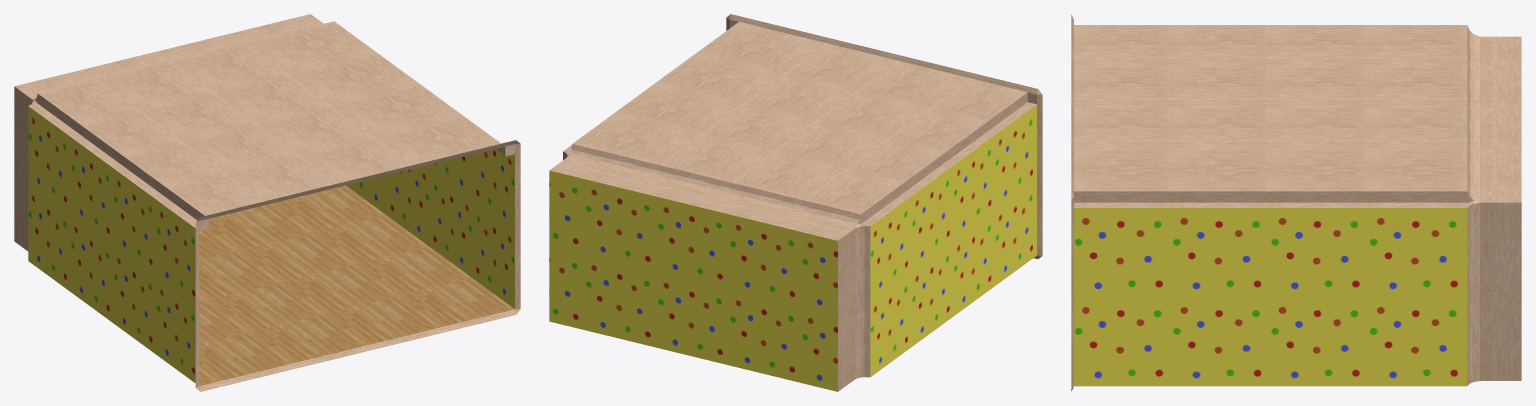
Rendered from kitchen.FBX.
3 renders of one model, left to right at view 1: azimuth 30°, elevation 25°; view 2: azimuth 150°, elevation 25°; view 3: azimuth 270°, elevation 25°, orthographic. The views are drawn at different scales.
Parts seen in each view (by area): view 1: Plane001; view 2: Plane001; view 3: Plane001.
Part boxes in pixels (box(x1,y1,x2,y2)): Plane001: box(14, 14, 520, 391); Plane001: box(549, 14, 1042, 391); Plane001: box(1071, 14, 1521, 391).
Size of the model in its own units: 439 by 226 by 458.
